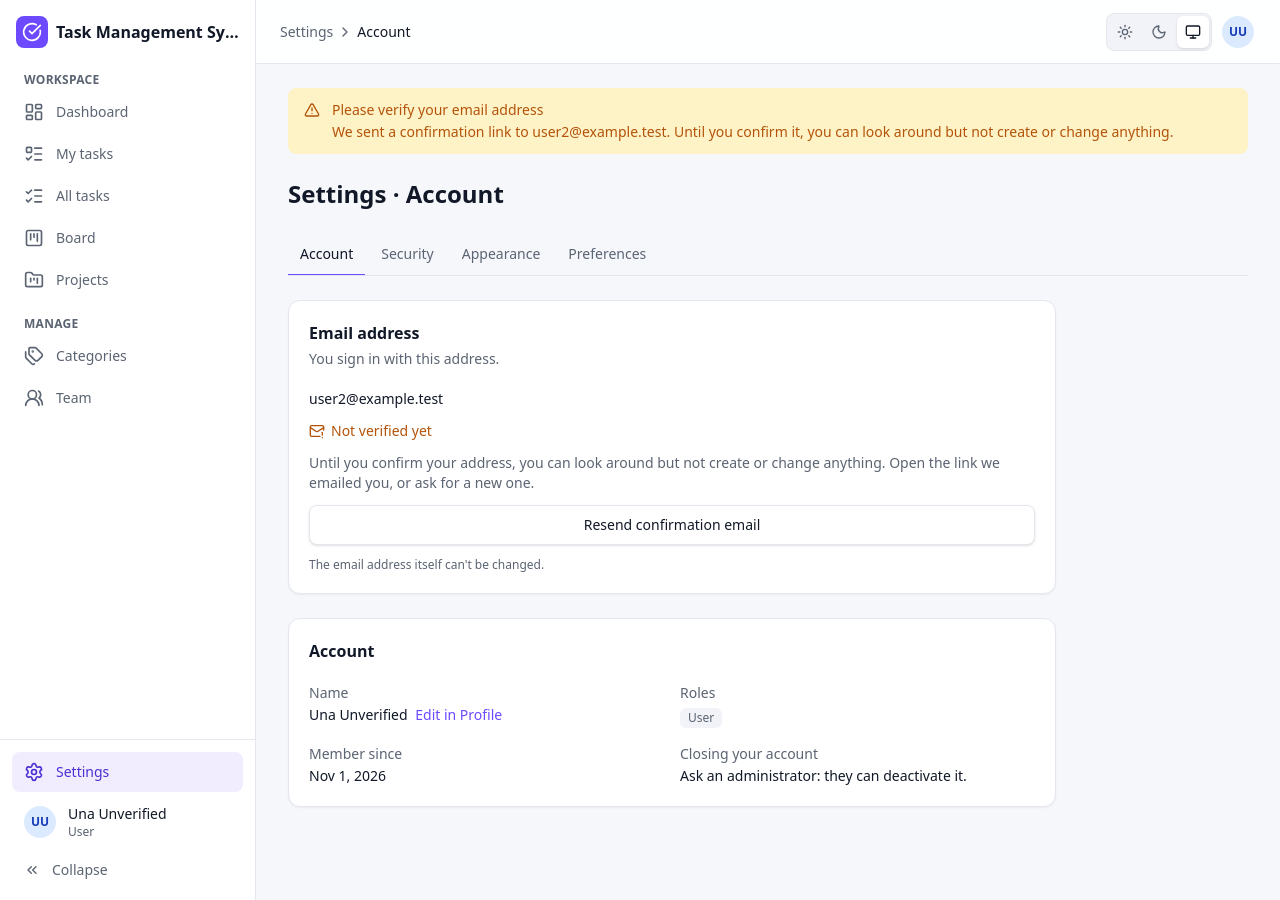
Settings › Account › resends the confirmation email to my address, then waits 60 s
This screenshot has width=1280, height=900.
Click the button "Resend confirmation email". click: (672,525)
box: [309,505,1035,545]
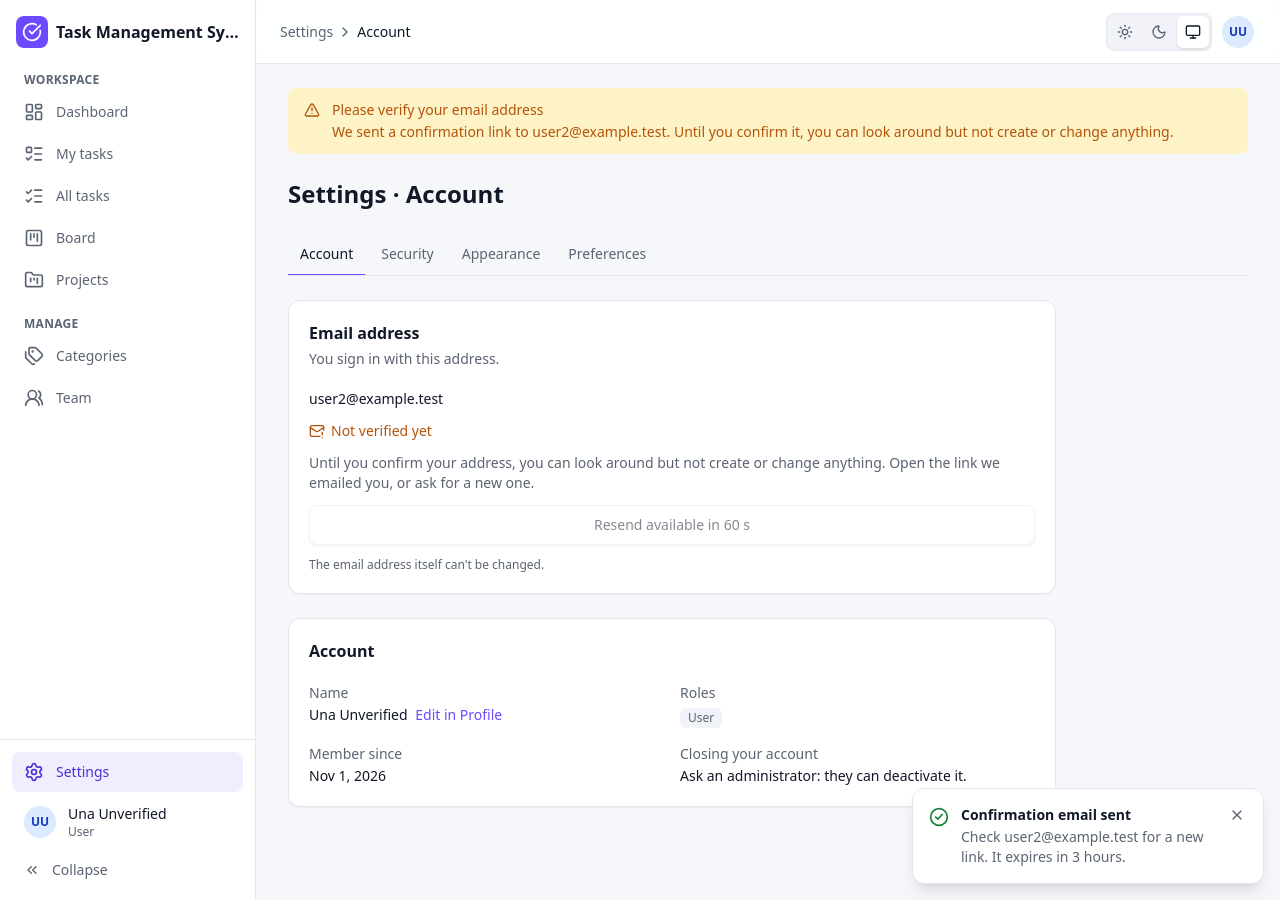
Expected: the text "Confirmation email sent" is shown, [961,805,1131,824]
Expected: the button "Resend available in 60 s" is disabled, [309,505,1035,545]
